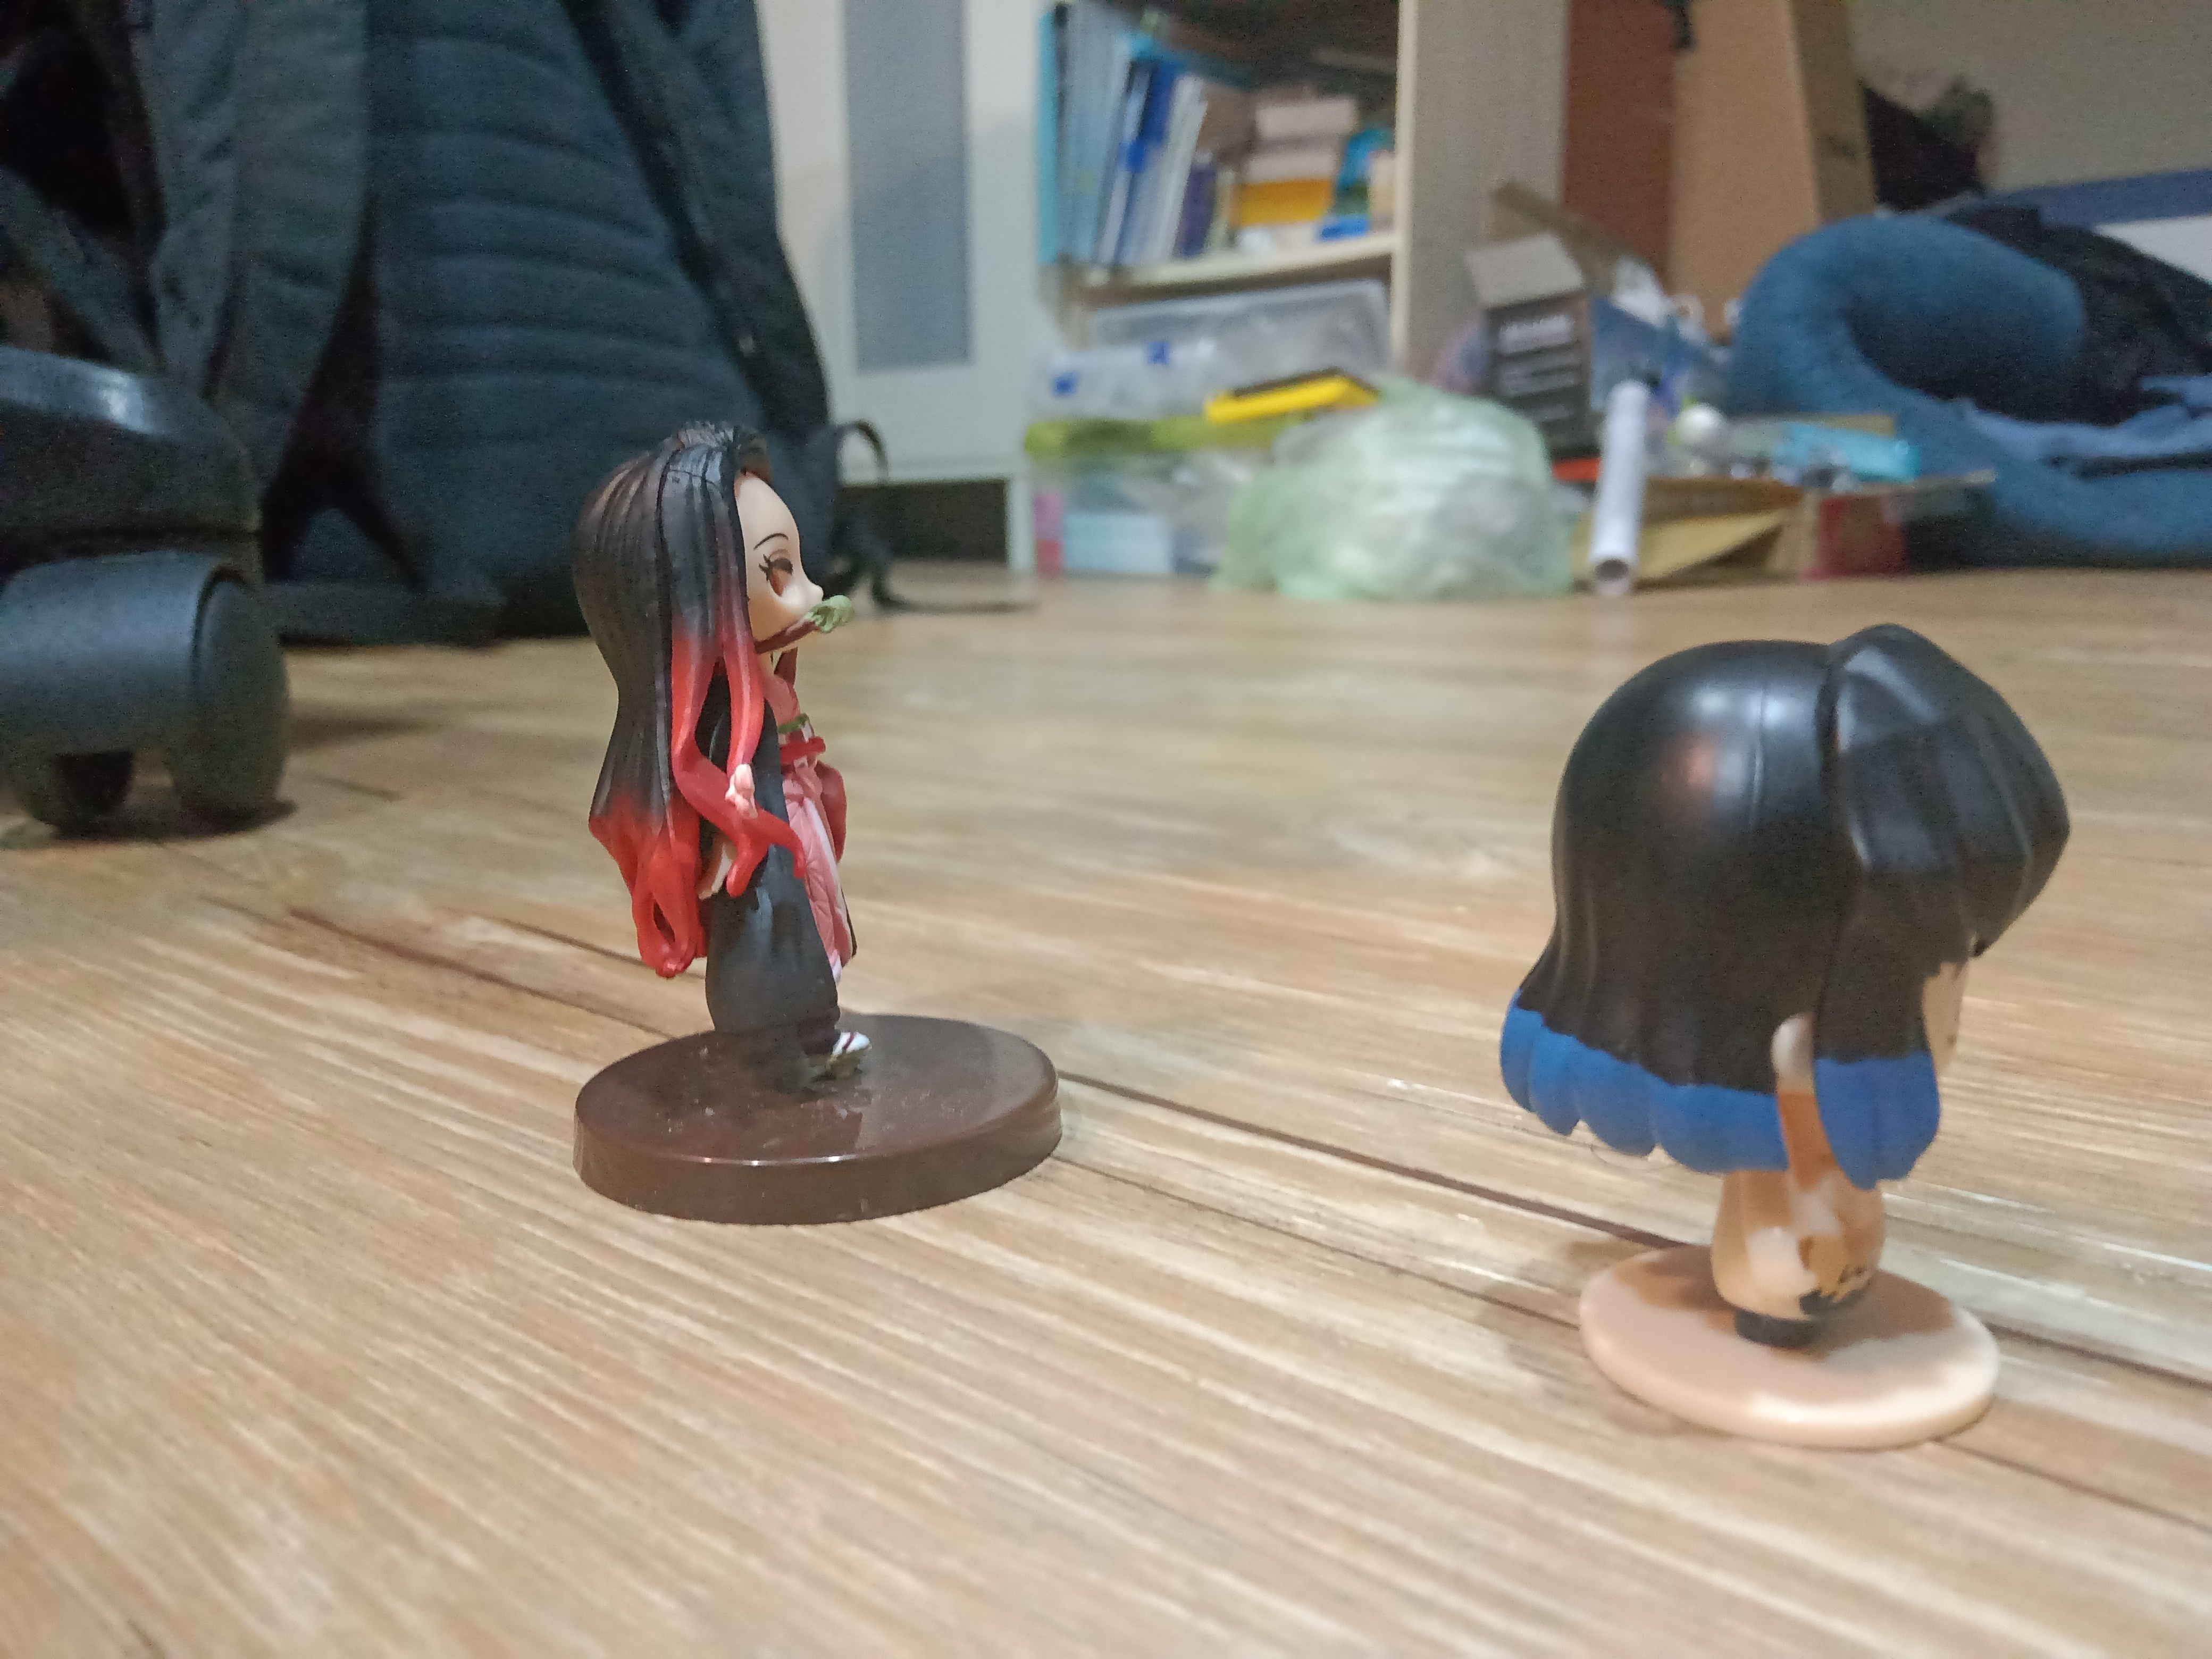Inosuke: (1465, 606, 2104, 1478)
Nezuko: (523, 404, 1134, 1246)
